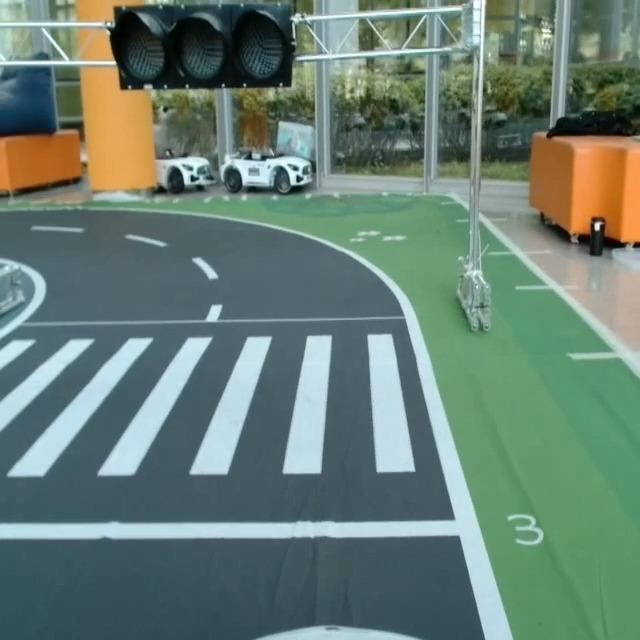traffic-light: (107, 0, 295, 93)
